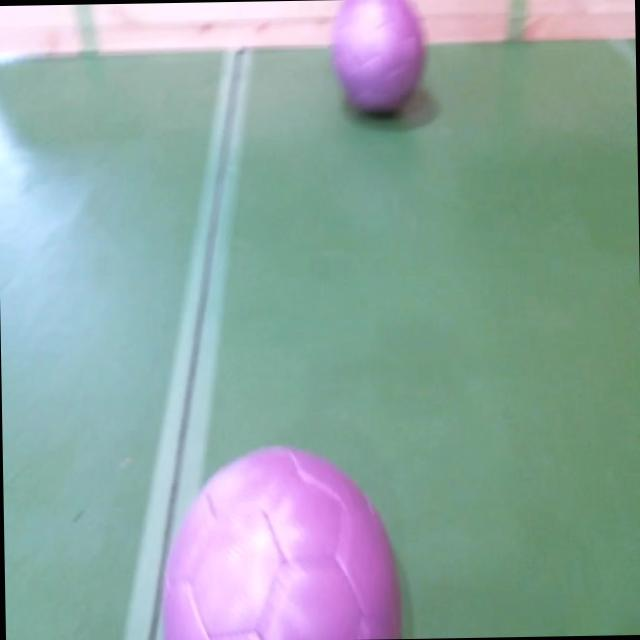purple_ball: (155, 436, 402, 640), (330, 0, 428, 119)
